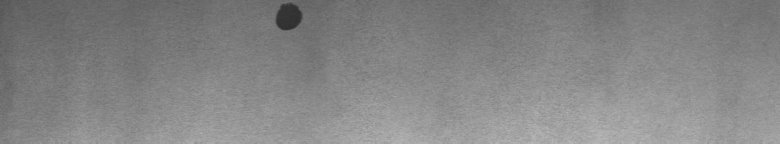fi: (268, 4, 309, 37)
